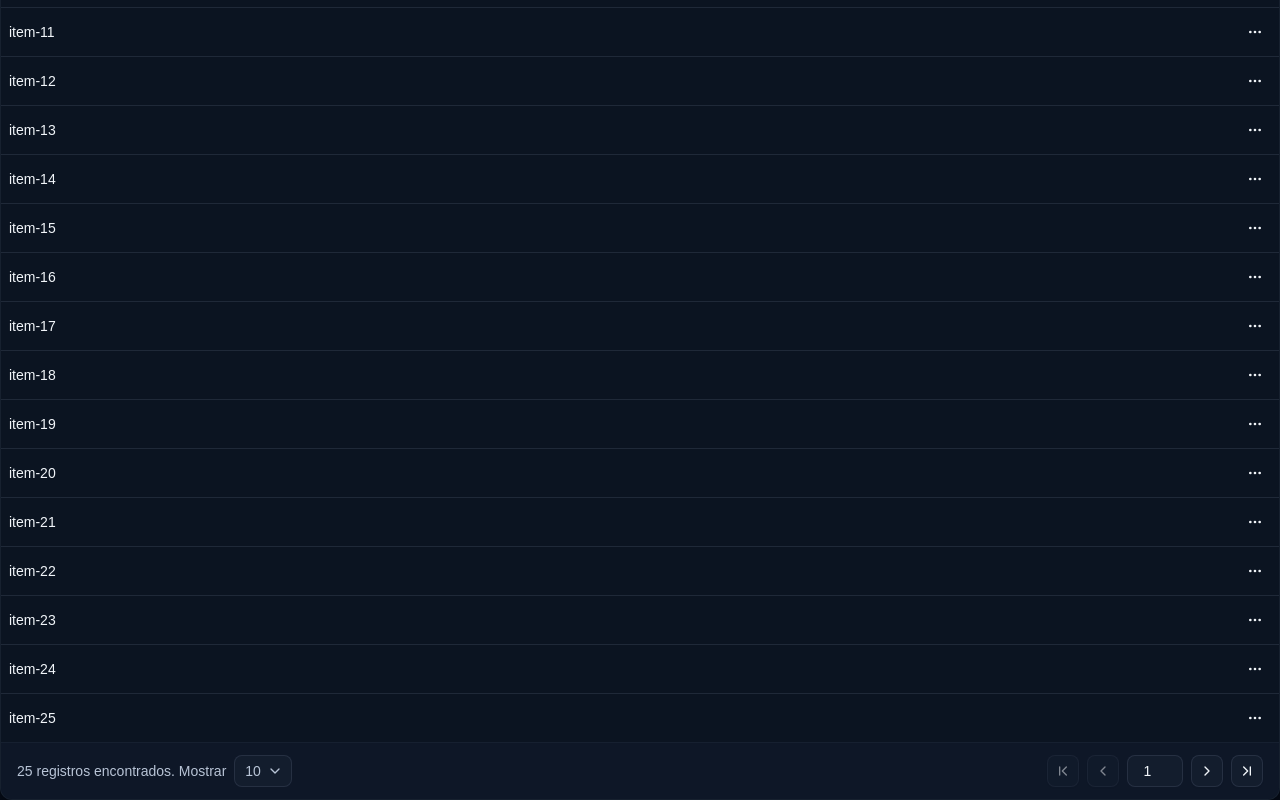
Test: Master record module — local flat catalogue (combo-style) › fetches once, then pages entirely client-side
(page scrolled)
Expected: the number field holds "1", left=1127, top=754, right=1183, bottom=786
Click the button with class "lucide-chevron-right" at (1207, 770), box left=1191, top=754, right=1223, bottom=786
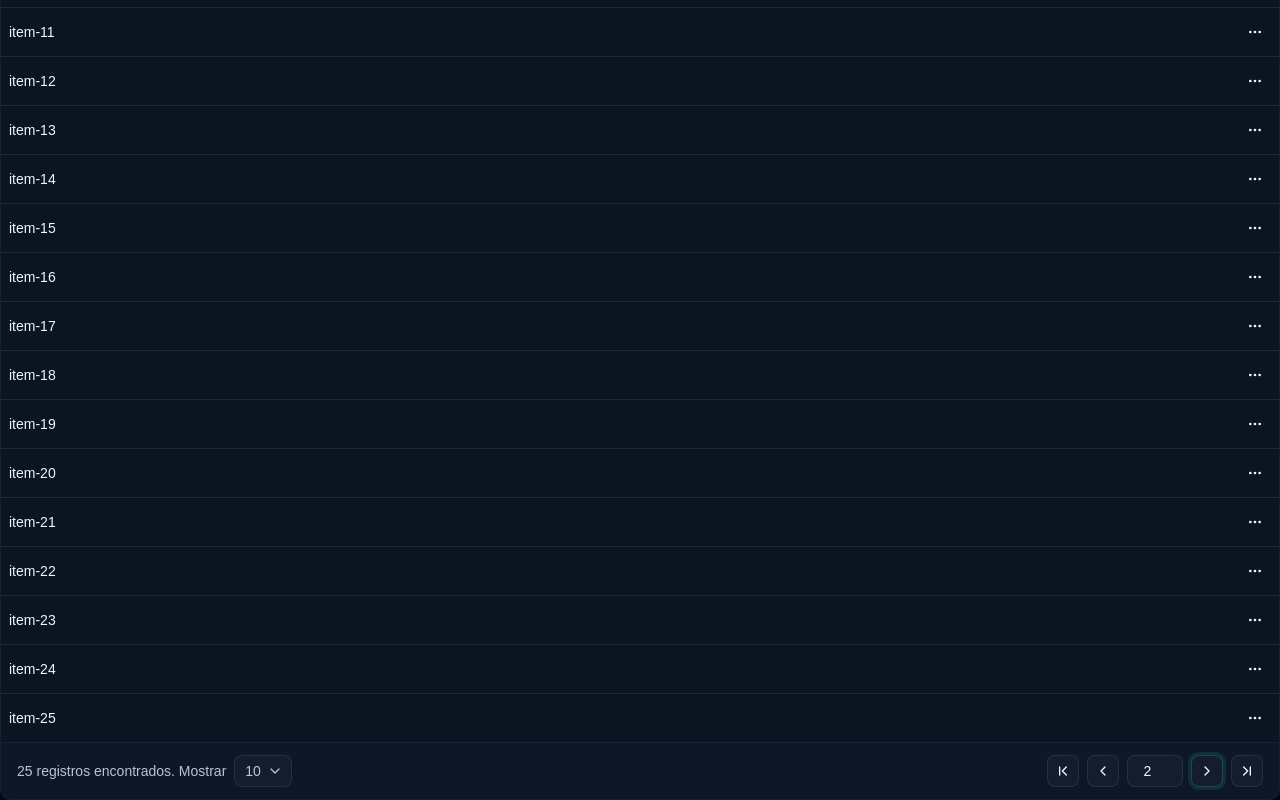
Expected: the text "item-11" is shown, left=1, top=7, right=467, bottom=56
Expected: the number field holds "2", left=1127, top=754, right=1183, bottom=786
